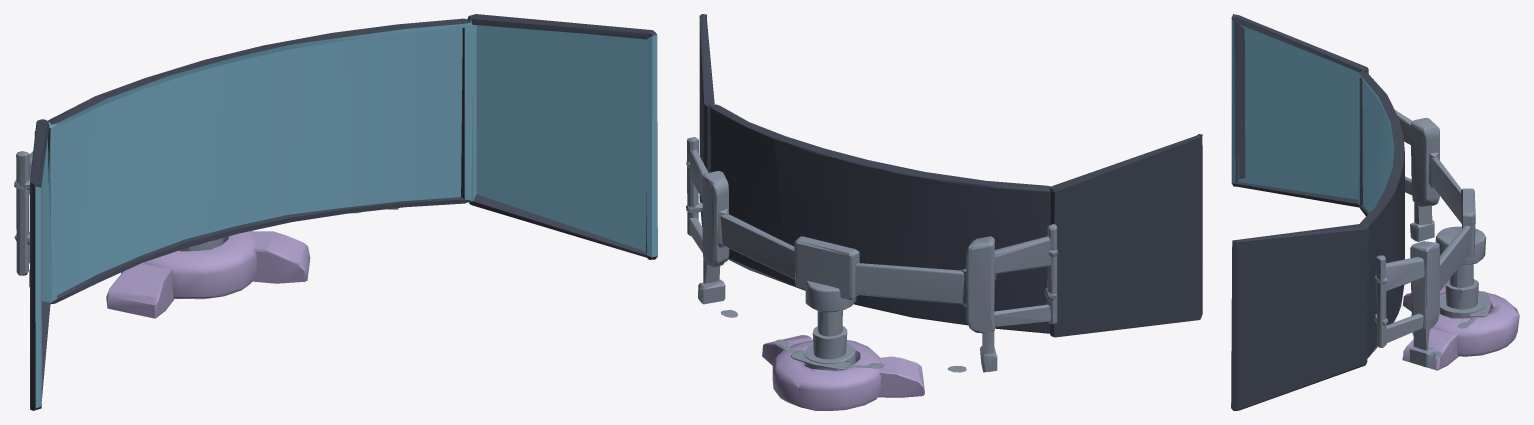
Rendered from gaming_monitors.glb.
The picture shows the model from 3 angles, left to right: view 1: azimuth 30°, elevation 25°; view 2: azimuth 150°, elevation 25°; view 3: azimuth 270°, elevation 25°; orthographic projection. The views are drawn at different scales.
Size of the model in its own units: 2.32 by 0.9983 by 1.25.
